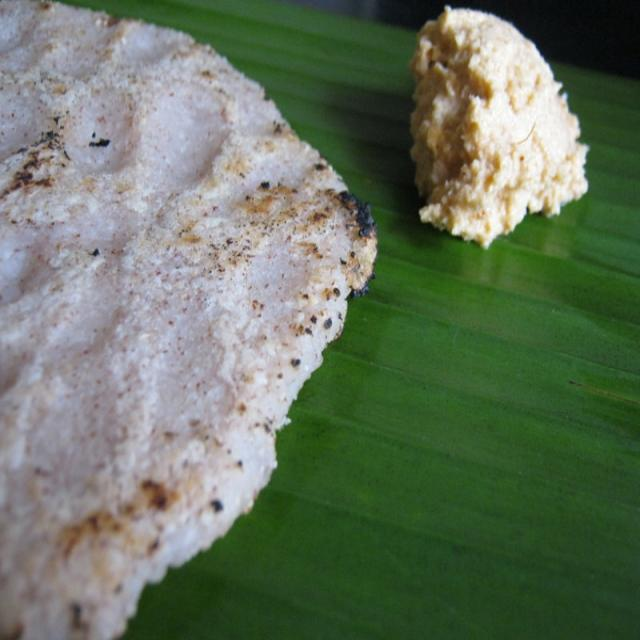RICE BHAKRI: (0, 3, 383, 639)
